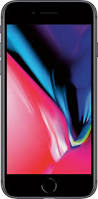iphone: (1, 1, 98, 199)
iphone8: (1, 1, 98, 199)
